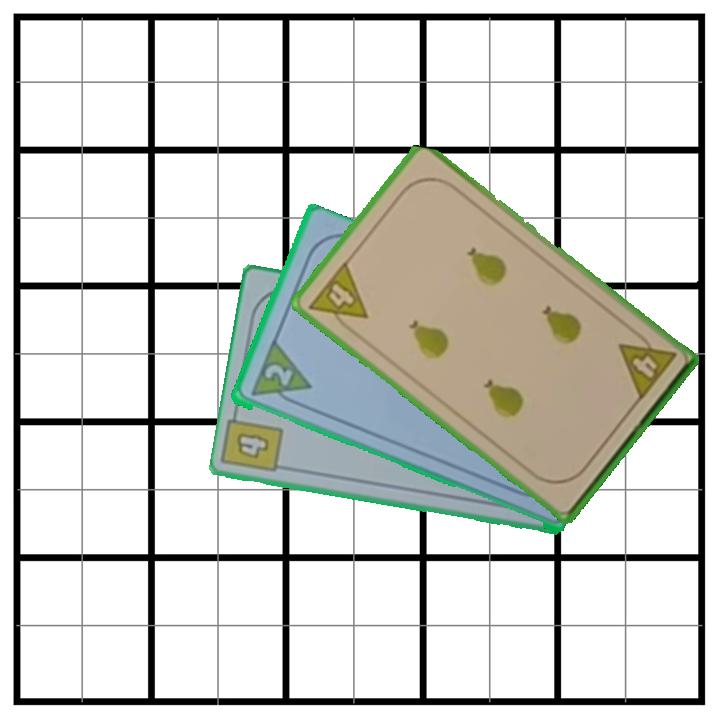2p: (260, 360, 295, 389)
4b: (232, 430, 272, 462)
4p: (304, 257, 371, 338), (614, 326, 679, 404)
